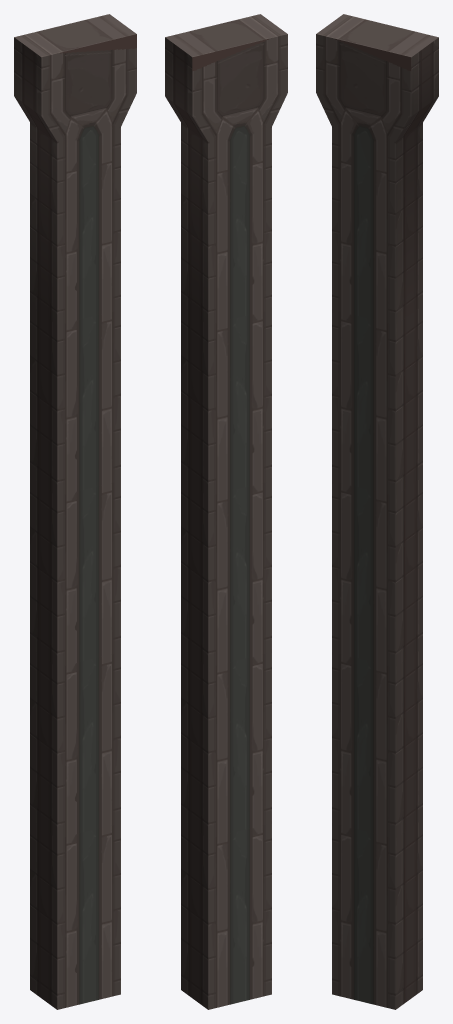
The model's file is sc_dungeon_moshenta_building_005.FBX.
3 views of the same model, side by side, from view 1: azimuth 30°, elevation 25°; view 2: azimuth 210°, elevation 25°; view 3: azimuth 330°, elevation 25° (orthographic).
Parts seen in each view (by area): view 1: sc_dungeon_moshenta_building_005; view 2: sc_dungeon_moshenta_building_005; view 3: sc_dungeon_moshenta_building_005.
Boxes of the visible parts, left/top/right/bottom form: sc_dungeon_moshenta_building_005: left=14, top=14, right=136, bottom=1009; sc_dungeon_moshenta_building_005: left=165, top=14, right=287, bottom=1009; sc_dungeon_moshenta_building_005: left=316, top=14, right=438, bottom=1009.
Bounding box in the file's own units: 5.16 × 49.39 × 2.57.
Materials: 1 (1 with a texture image).
